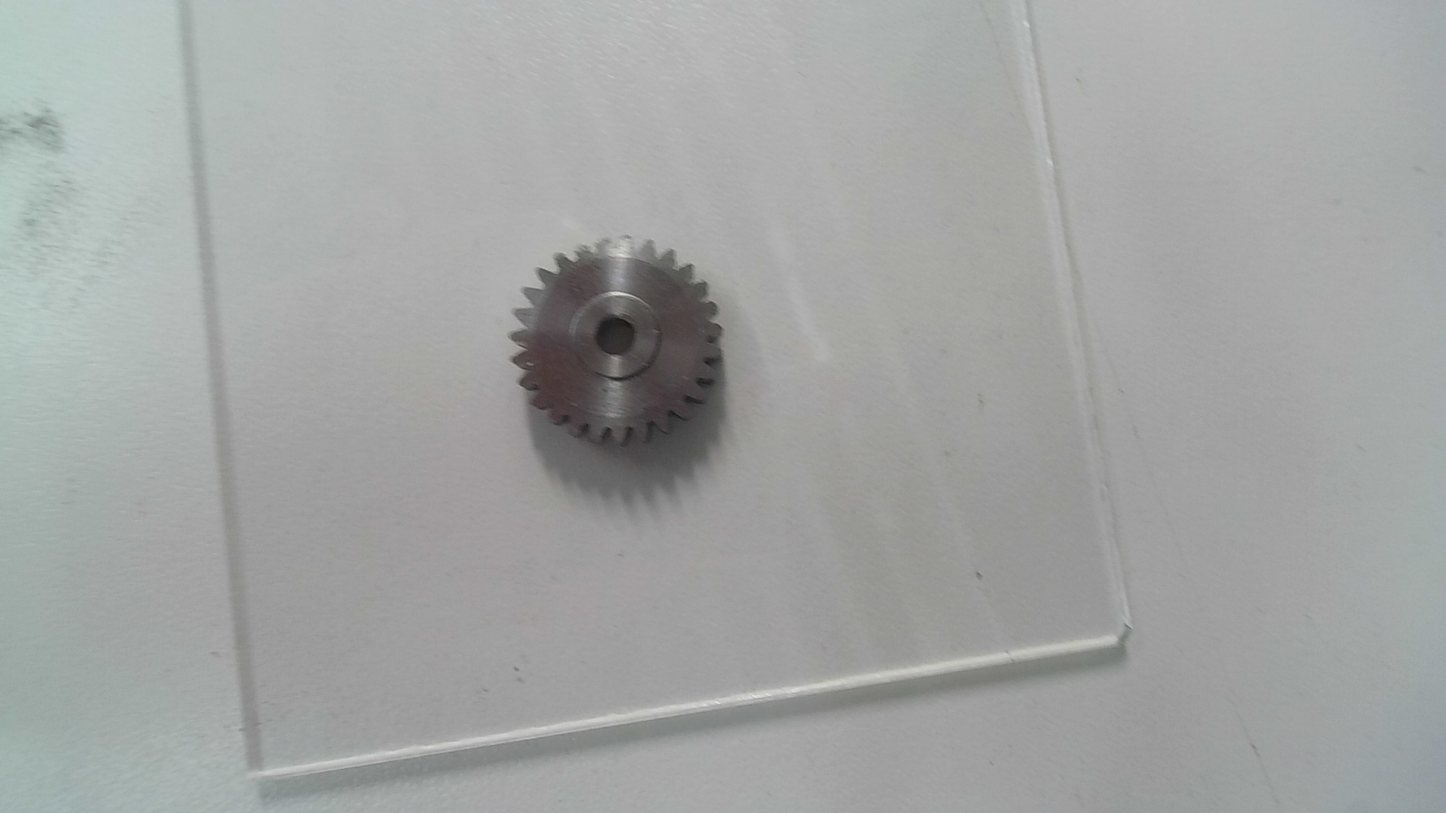gear: (504, 225, 730, 449)
